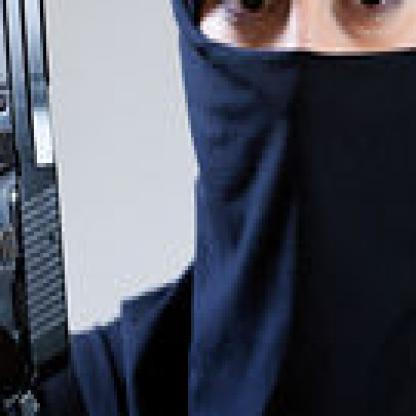gun: (0, 0, 87, 412)
